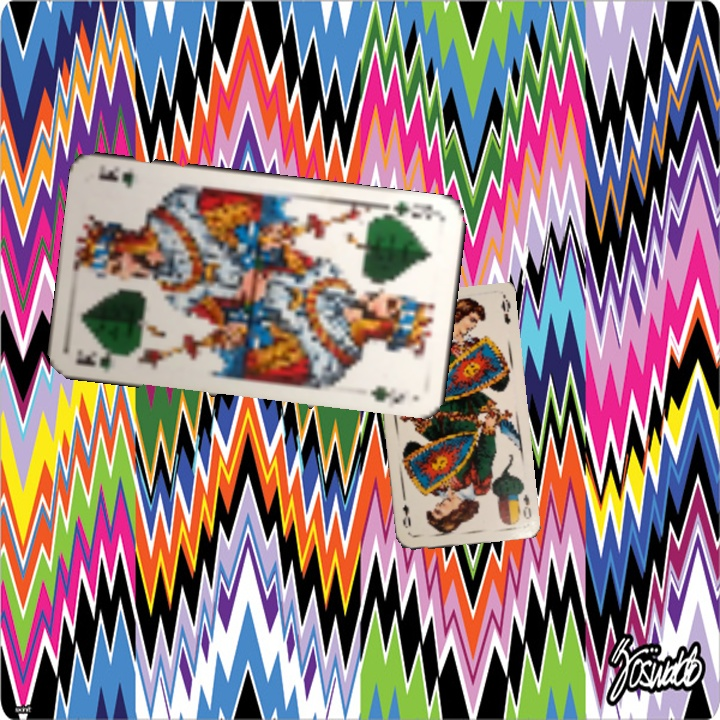EO: (519, 490, 534, 522)
GK: (72, 345, 131, 375), (381, 196, 440, 224)
